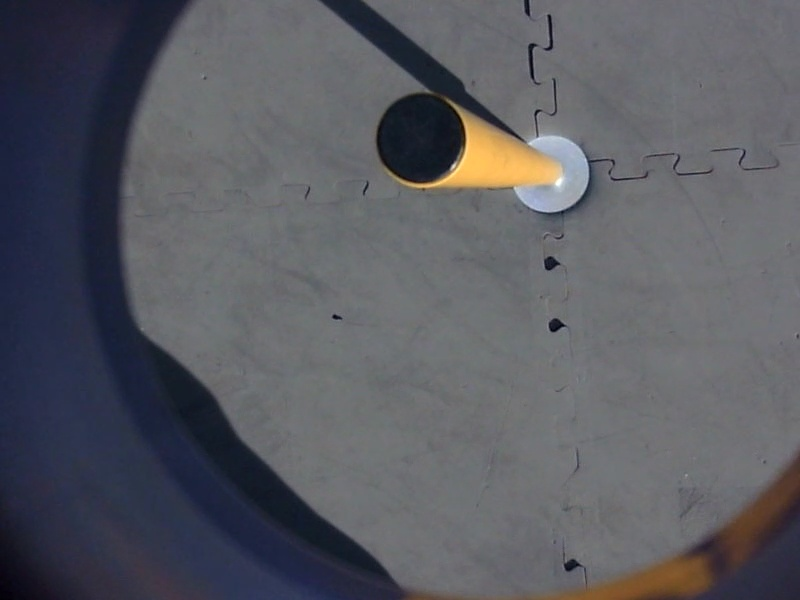tip: (370, 87, 474, 198)
